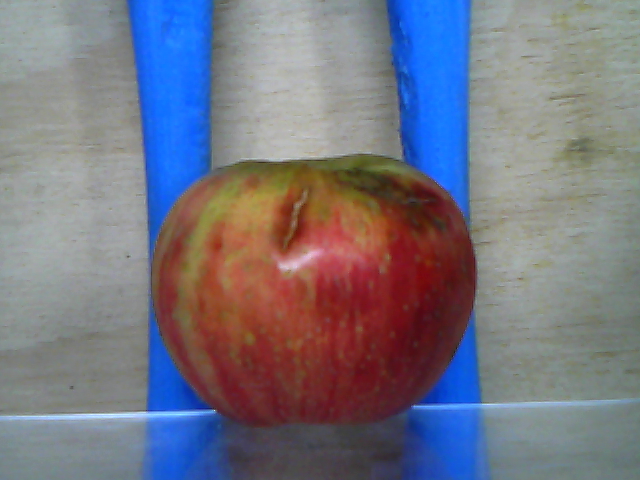cut: (281, 187, 311, 252)
